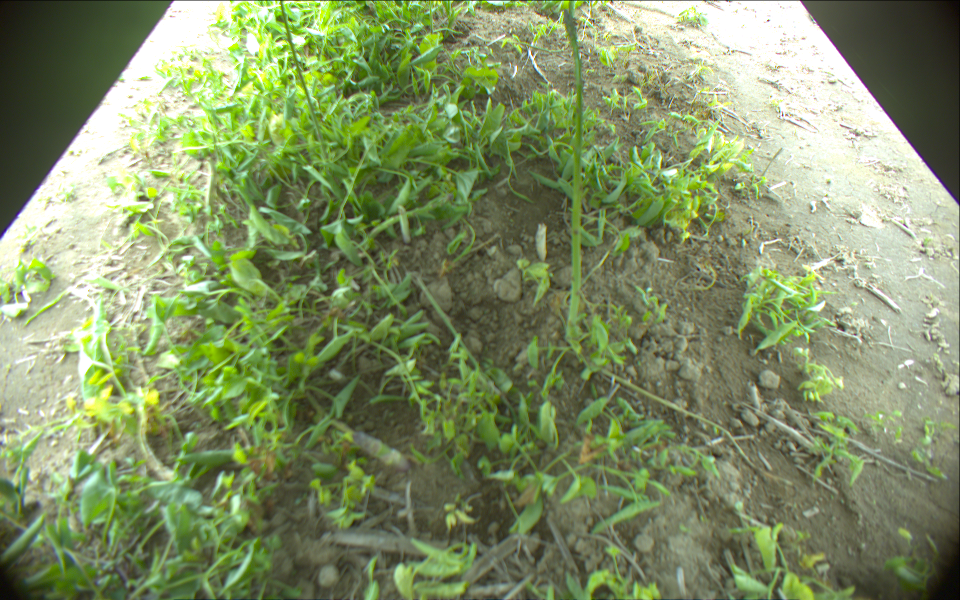aspa: (278, 1, 333, 176), (566, 1, 583, 342), (354, 190, 449, 249), (392, 202, 413, 242)
